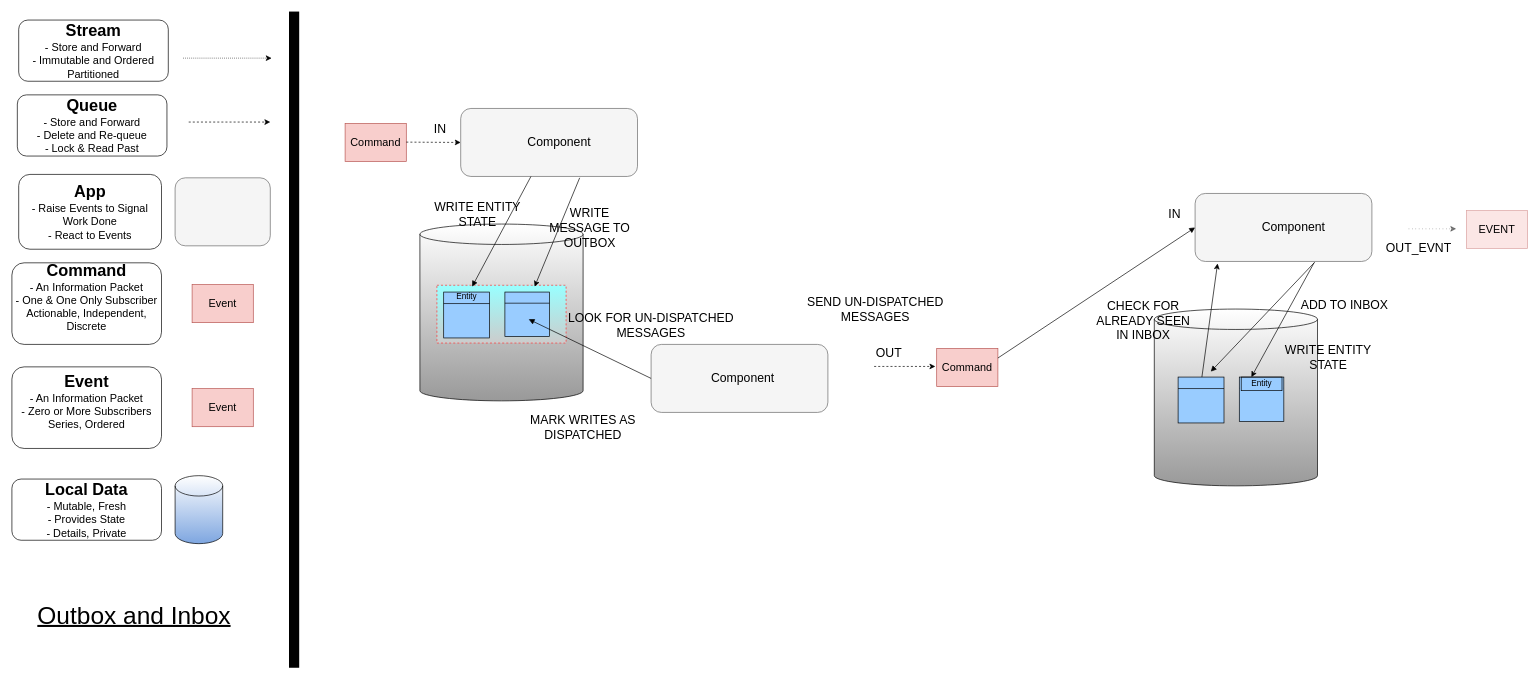
This 1540x679 diagram has some shape labels left out. Here are the shapes that lost their labels. From the top down, the box of each, then its label:
(504, 291, 549, 337): Outbox
(1177, 376, 1224, 423): Inbox
